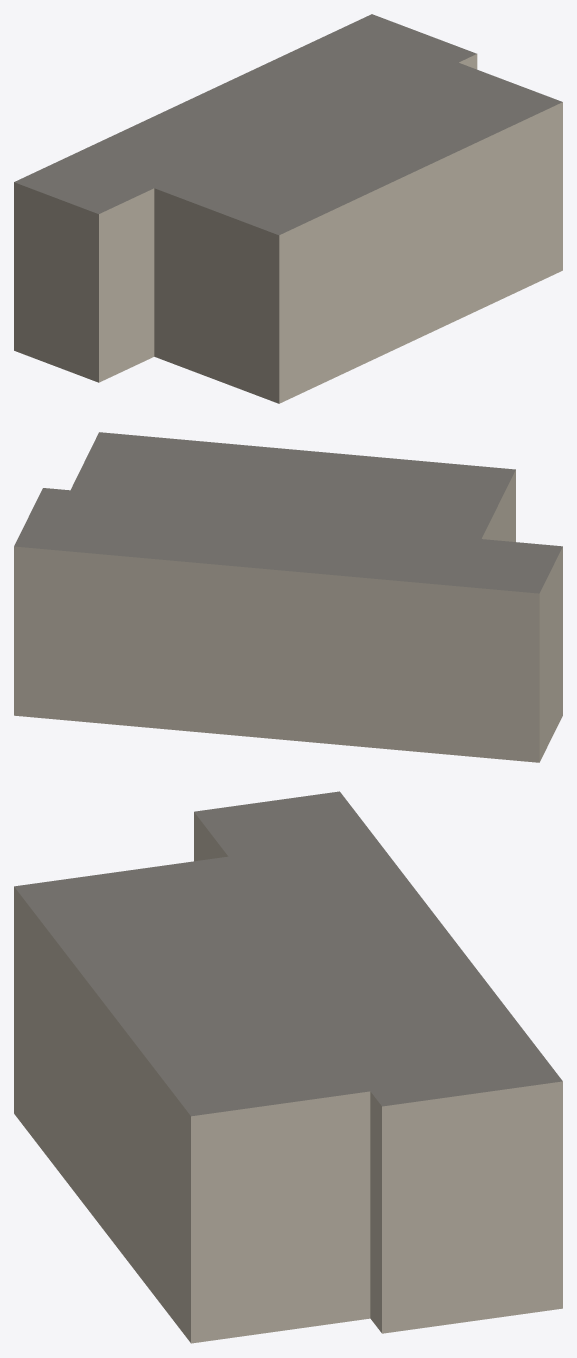
3 views of the same model, one above another, from view 1: azimuth 30°, elevation 25°; view 2: azimuth 150°, elevation 25°; view 3: azimuth 270°, elevation 25° (orthographic). The views are drawn at different scales.
Visible parts, largest first — view 1: HP-w435452345; view 2: HP-w435452345; view 3: HP-w435452345.
Boxes of the visible parts, x1=… form: HP-w435452345: x1=14, y1=14, x2=562, y2=403; HP-w435452345: x1=14, y1=432, x2=562, y2=762; HP-w435452345: x1=14, y1=791, x2=562, y2=1343.
Size of the model in its own units: 55.2 by 18 by 39.42.
